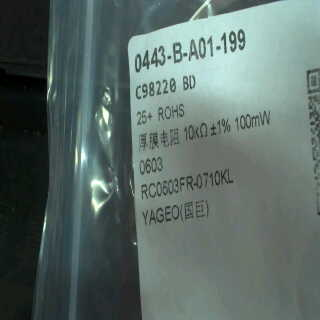10kR: (181, 121, 209, 141)
